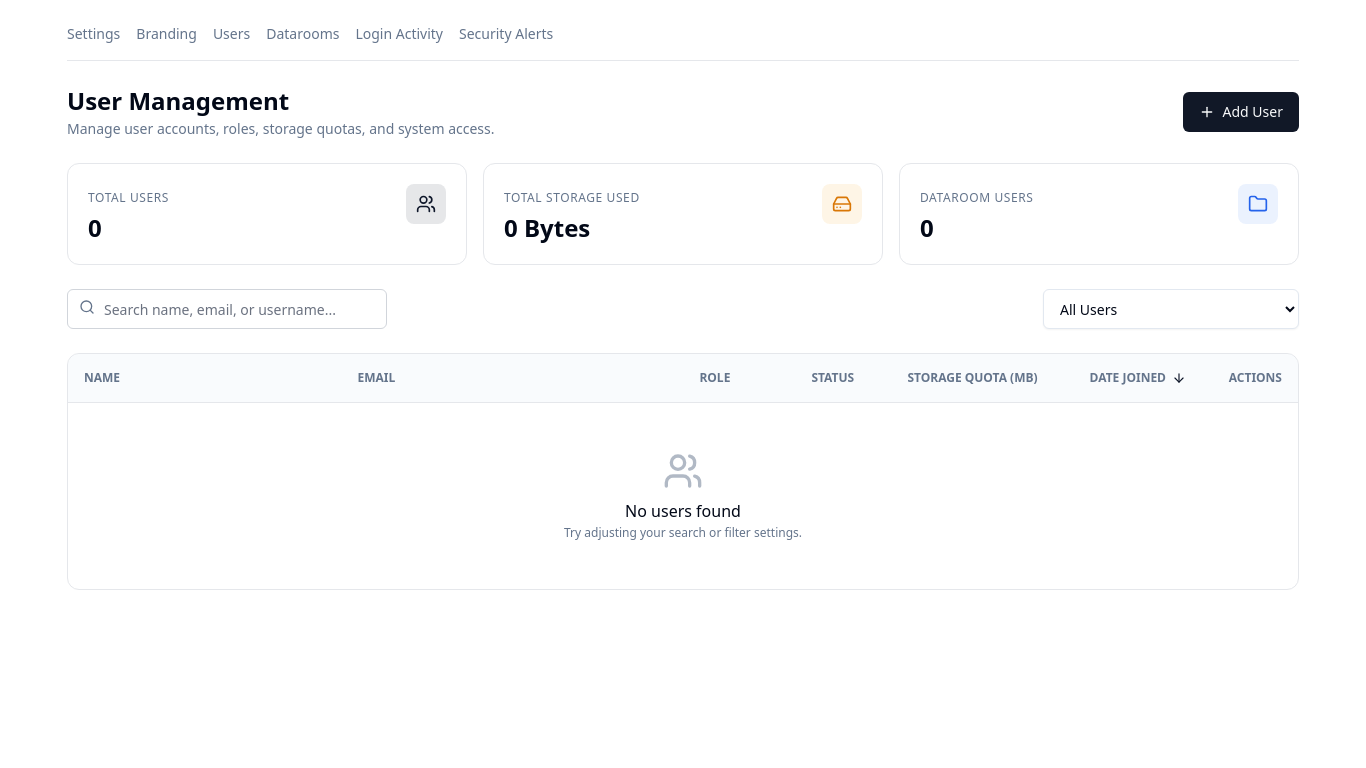
AdminUsersPage › renders empty state when no users are found and allows clearing filters
Expected: the text "No users found" is shown, [625, 500, 741, 522]
Expected: the text "Try adjusting your search or filter settings." is shown, [564, 524, 802, 541]
Type into search to show the Clear Filters button
Type "nonexistent" into the field with placeholder "Search name, email, or username..." at (227, 309), box [67, 289, 387, 329]
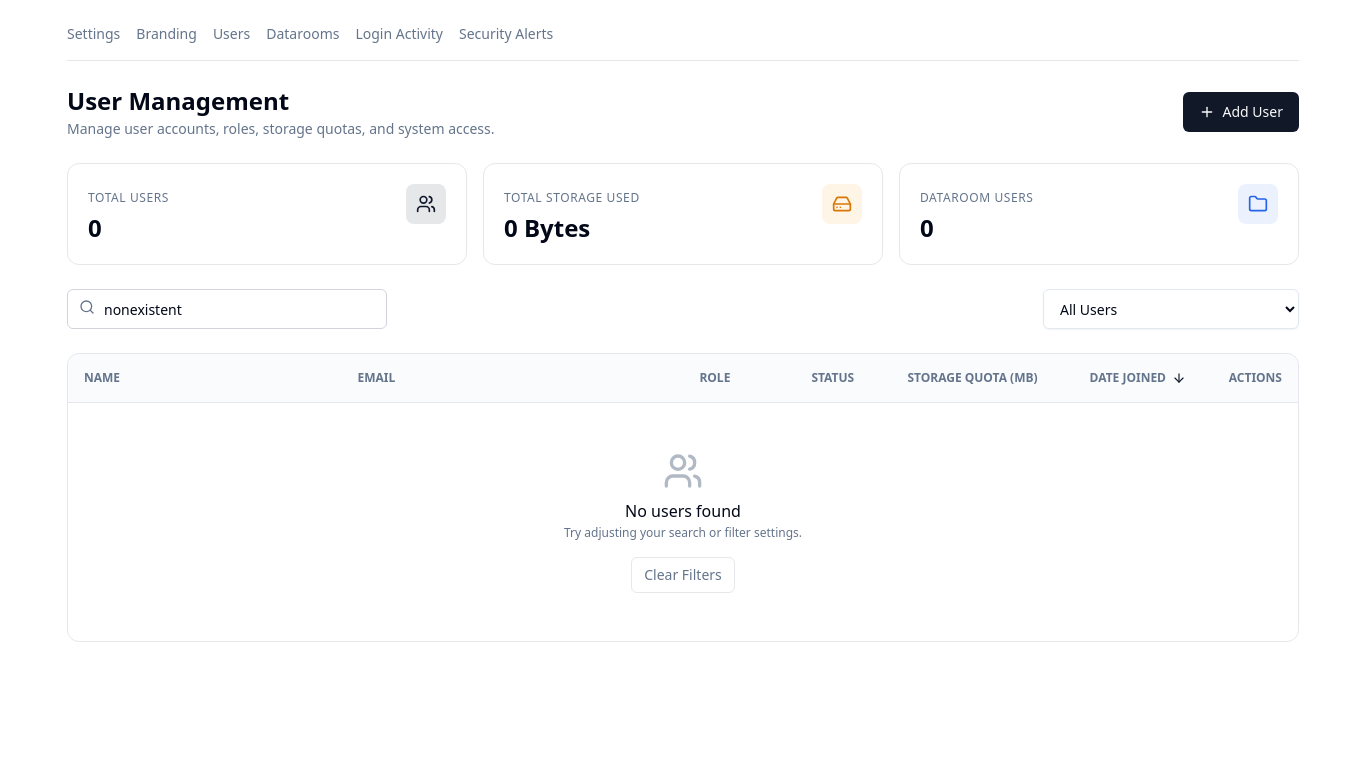
Click the button "Clear Filters" at (683, 575), box [631, 557, 735, 593]
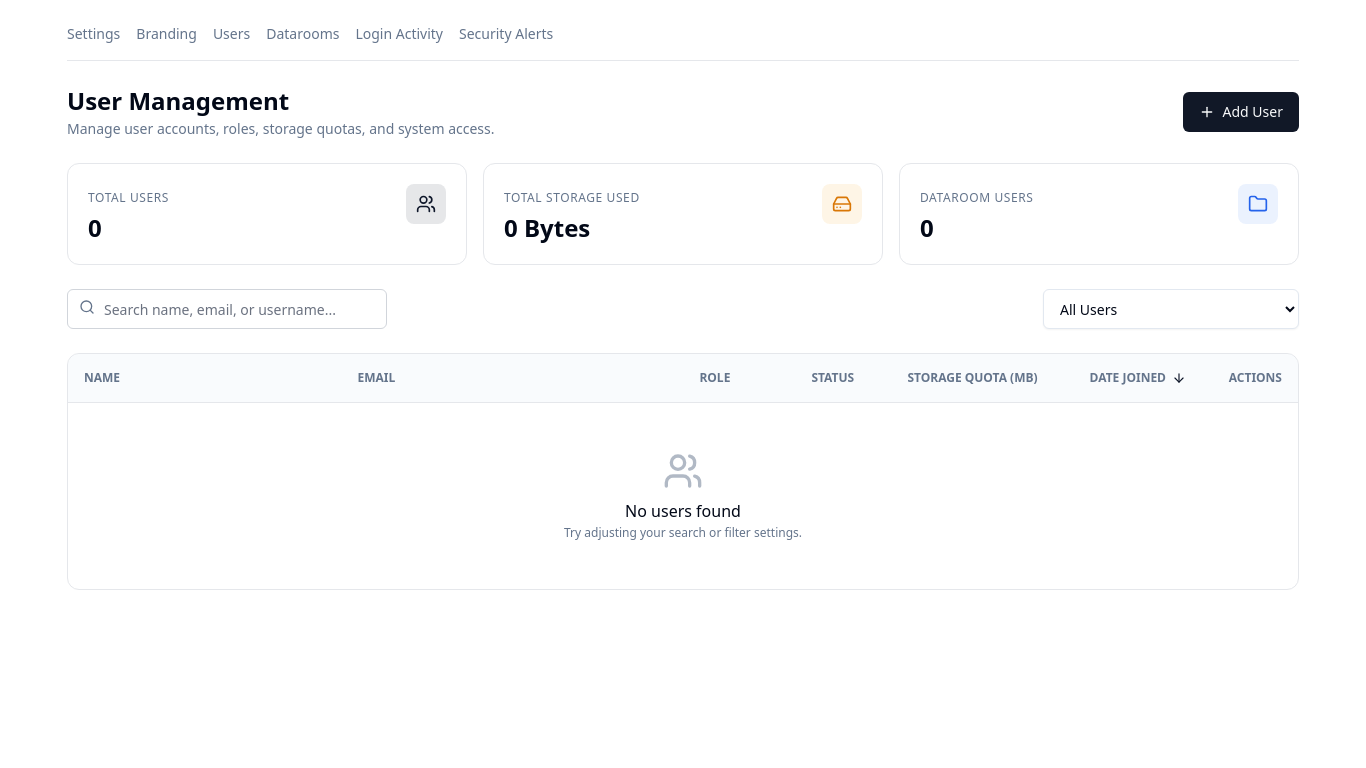
Now the field with placeholder "Search name, email, or username..." is empty, box [67, 289, 387, 329]
